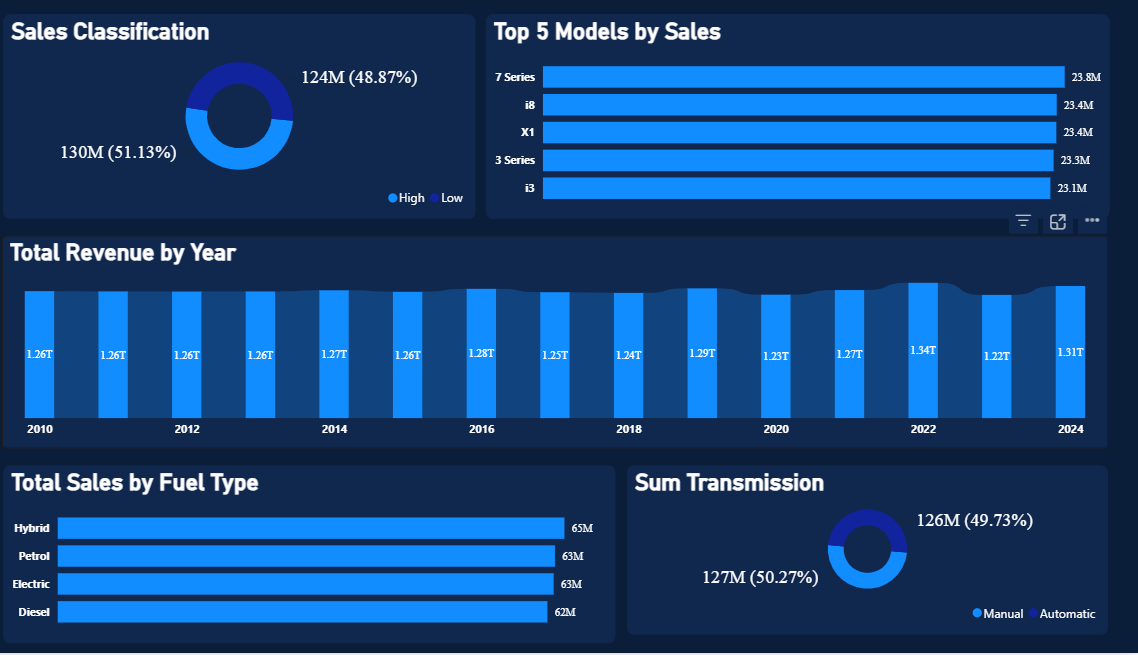

Layout of this report page (visuals, bound fields, positions):
{"tool":"powerbi","page":{"name":"Page 2","canvas":[1280,720],"ordinal":1},"visuals":[{"type":"barChart","title":"Top 5 Models by Sales","fields":{"Category":["BMW sales data (2010-2024) (1).Model"],"Y":["Sum(BMW sales data (2010-2024) (1).Sales_Volume)"]},"box":[564,17.8,684.7,225],"z":0},{"type":"donutChart","title":"Sales Classification","fields":{"Category":["BMW sales data (2010-2024) (1).Sales_Classification"],"Y":["Sum(BMW sales data (2010-2024) (1).Sales_Volume)"]},"box":[34.3,17.8,518.7,225],"z":1000},{"type":"donutChart","title":"Sum Transmission","fields":{"Category":["BMW sales data (2010-2024) (1).Transmission"],"Y":["Sum(BMW sales data (2010-2024) (1).Sales_Volume)"]},"box":[719,513.2,528.3,185.2],"z":2000},{"type":"barChart","title":"Total Sales by Fuel Type","fields":{"Category":["BMW sales data (2010-2024) (1).Fuel_Type"],"Y":["Sum(BMW sales data (2010-2024) (1).Sales_Volume)"]},"box":[34.3,513.2,672.4,194.9],"z":3000},{"type":"ribbonChart","fields":{"Category":["BMW sales data (2010-2024) (1).Year"],"Y":["BMW sales data (2010-2024) (1).Total Revenue"]},"box":[32.9,260.7,1214.4,234.6],"z":4000}]}

Visuals, with their boxes in screenshot pixels (x1, y1, x2, y2), scaled from the page's 1280x720 canvas onto the 1138x655 screenshot:
"Top 5 Models by Sales" barChart: (501,16,1110,221)
"Sales Classification" donutChart: (30,16,492,221)
"Sum Transmission" donutChart: (639,467,1109,635)
"Total Sales by Fuel Type" barChart: (30,467,628,644)
ribbonChart - BMW sales data (2010-2024) (1).Year x BMW sales data (2010-2024) (1).Total Revenue: (29,237,1109,451)
